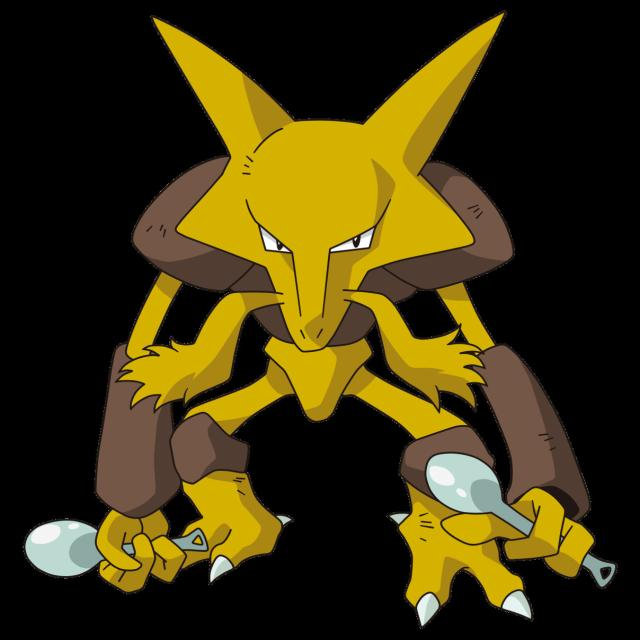Alakazam: (82, 58, 569, 613)
